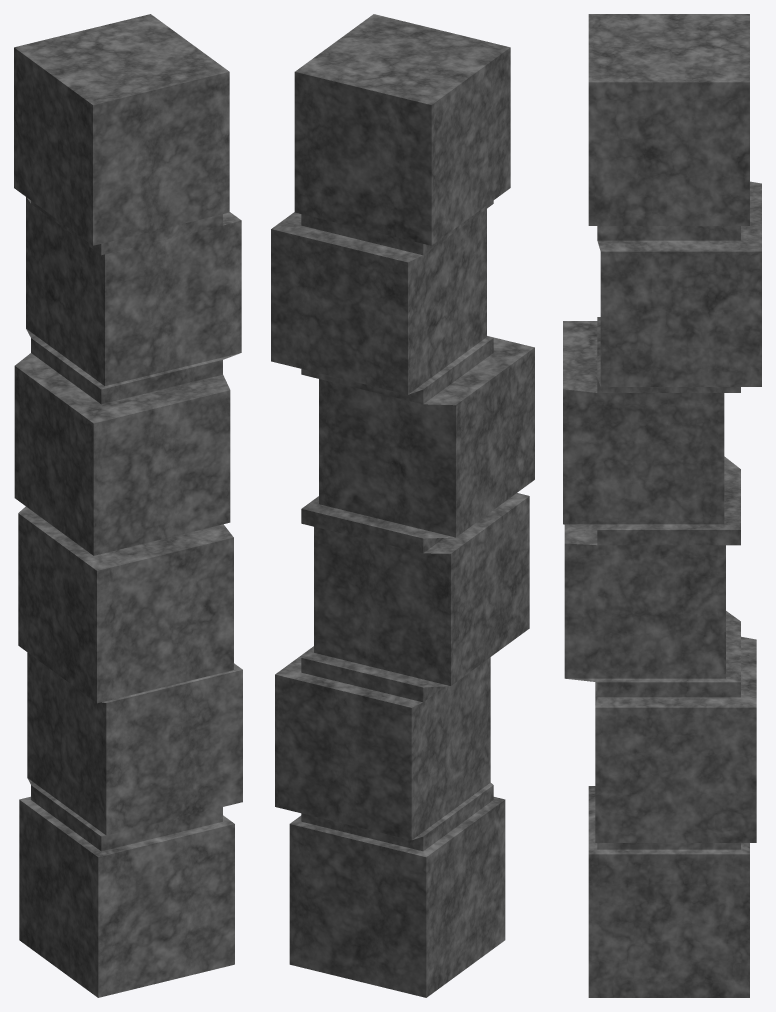
The model's file is Pillar_BlackBox.fbx.
3 renders of one model, left to right at view 1: azimuth 30°, elevation 25°; view 2: azimuth 150°, elevation 25°; view 3: azimuth 270°, elevation 25°, orthographic. The views are drawn at different scales.
Parts seen in each view (by area): view 1: Pillar_Square_Black; view 2: Pillar_Square_Black; view 3: Pillar_Square_Black.
Boxes of the visible parts, box(x1,y1,x2,y2) form: Pillar_Square_Black: box(14, 14, 242, 997); Pillar_Square_Black: box(271, 14, 534, 997); Pillar_Square_Black: box(563, 14, 761, 997).
Size of the model in its own units: 94.33 by 485 by 95.62.
Materials: 1 (1 with a texture image).
